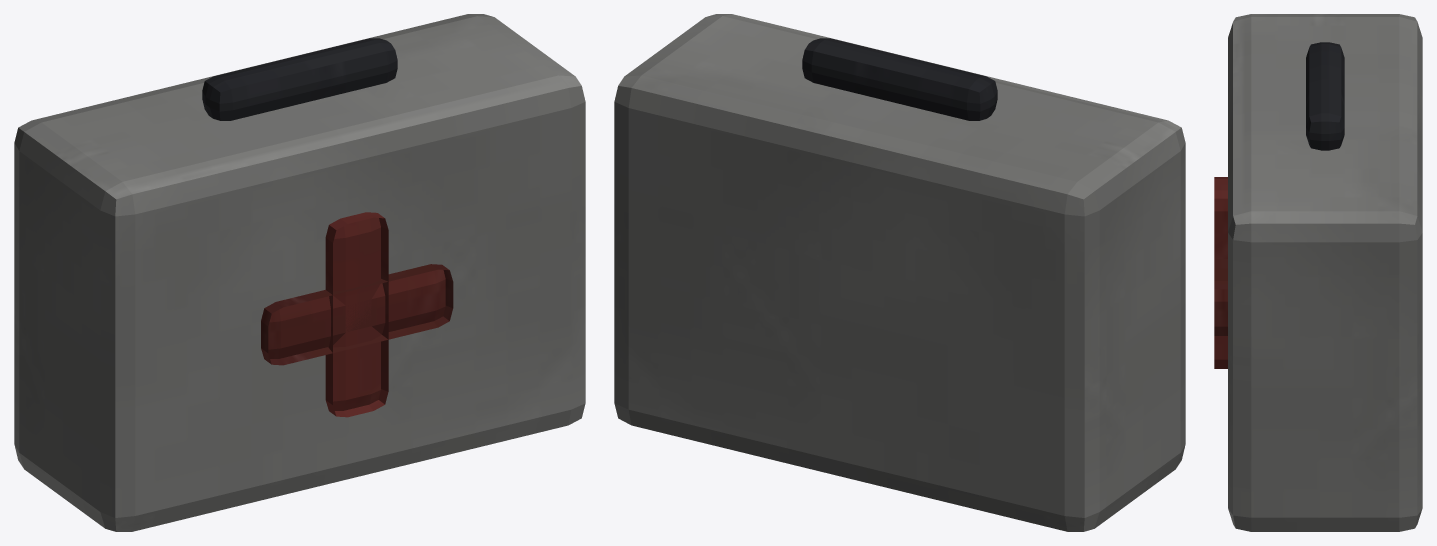
Rendered from item_medkit.glb.
3 views of the same model, side by side, from view 1: azimuth 30°, elevation 25°; view 2: azimuth 150°, elevation 25°; view 3: azimuth 270°, elevation 25° (orthographic). The views are drawn at different scales.
Visible parts, largest first — view 1: body; view 2: body; view 3: body.
Boxes of the visible parts, x1=… form: body: x1=14, y1=14, x2=585, y2=531; body: x1=614, y1=14, x2=1185, y2=531; body: x1=1214, y1=14, x2=1422, y2=531.
Bounding box in the file's own units: 0.26 × 0.2 × 0.107.
3 materials, 3 textured.
